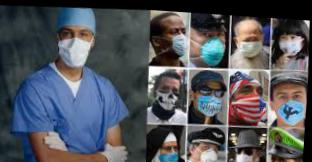OK: (58, 26, 95, 67), (234, 83, 271, 121), (273, 85, 308, 125), (192, 26, 226, 63), (157, 23, 190, 58), (195, 82, 225, 114), (155, 79, 181, 111), (238, 29, 265, 55), (279, 29, 304, 54), (235, 141, 261, 162), (160, 139, 183, 162), (198, 142, 222, 162)
WRONG: (271, 151, 304, 162)
